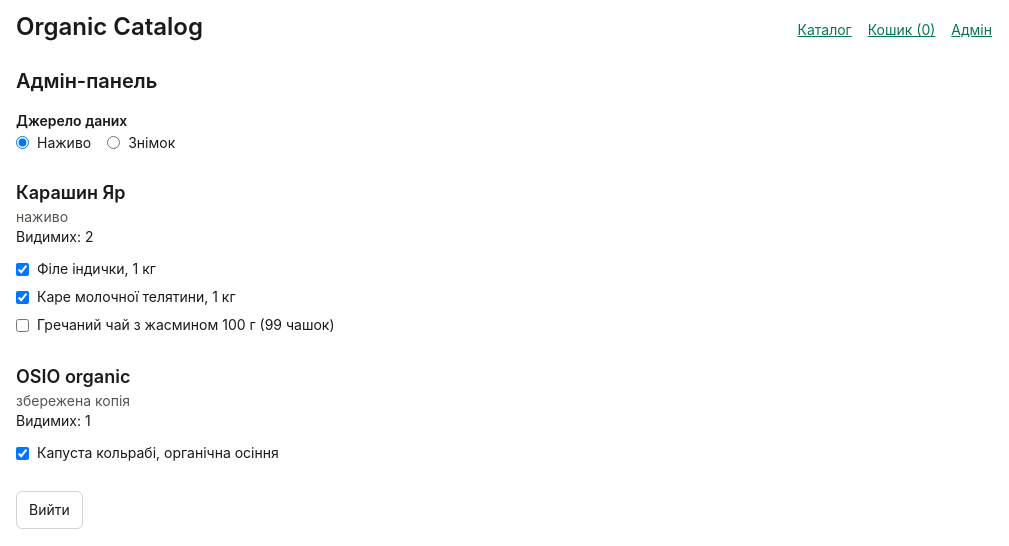
Scenario: Product visibility checkboxes › Unticking hides a product
Click the checkbox labelled "Філе індички, 1 кг". click: (22, 269)
box: top-left (16, 262), bottom-right (29, 276)
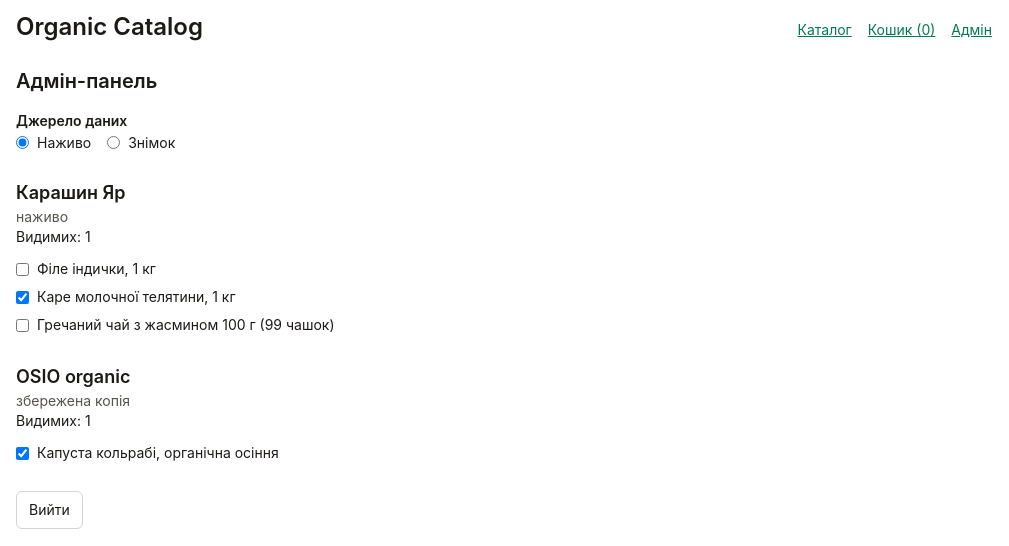
Check: the text "Видимих: 1" below "збережена копія" is shown, box top-left (16, 412), bottom-right (91, 429)
Check: the checkbox labelled "Філе індички, 1 кг" is not checked, box top-left (16, 262), bottom-right (29, 276)
Check: the text "Видимих: 1" below "Карашин Яр" is shown, box top-left (16, 228), bottom-right (91, 245)
